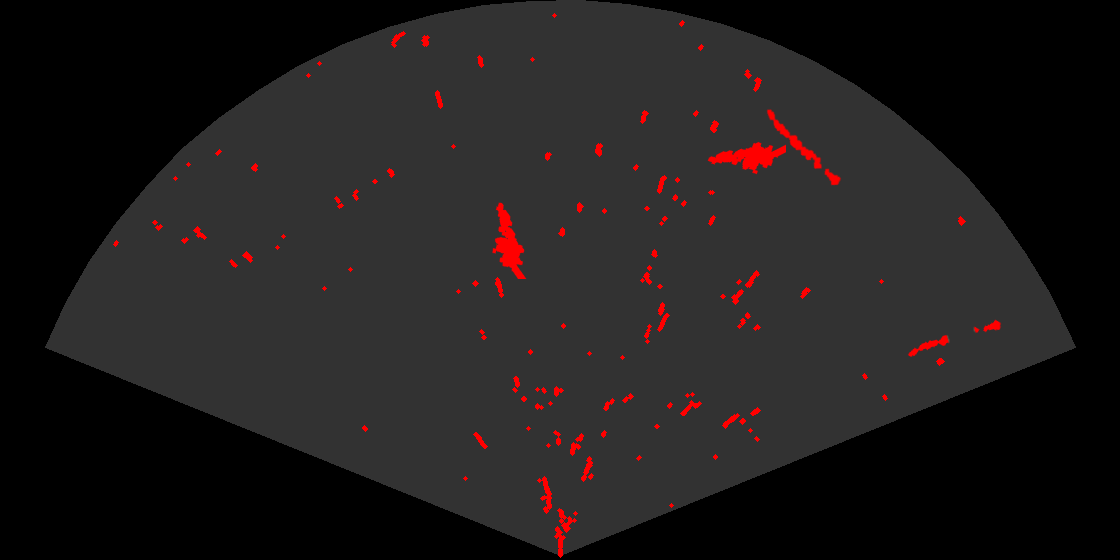chain: (765, 108, 843, 187), (906, 318, 1003, 358)
frogman: (491, 201, 528, 279), (706, 140, 786, 176)
